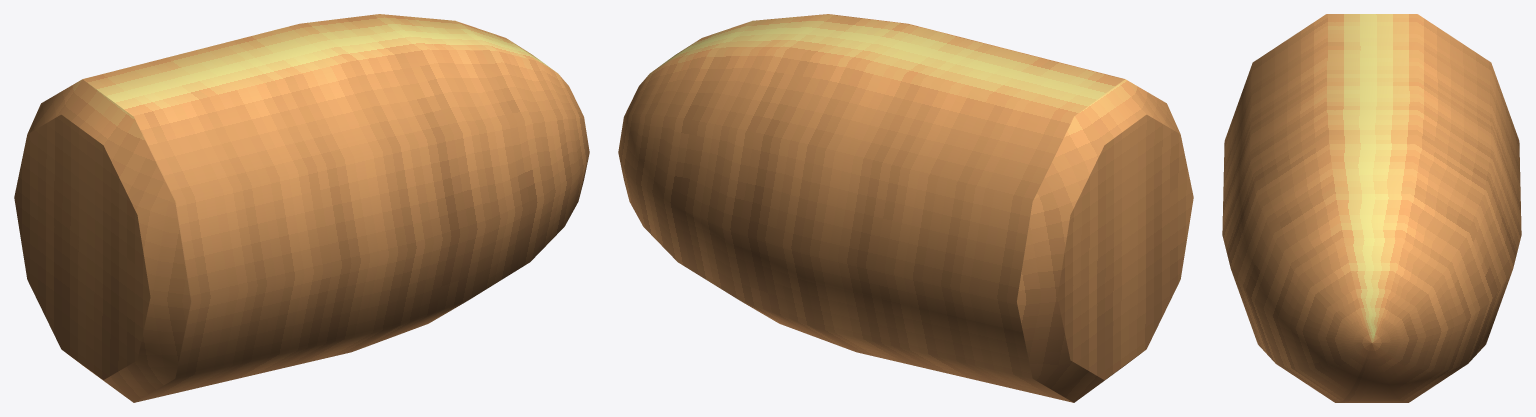
Rendered from ammomaker_BulletHandgunS.fbx.
3 views of the same model, side by side, from view 1: azimuth 30°, elevation 25°; view 2: azimuth 150°, elevation 25°; view 3: azimuth 270°, elevation 25° (orthographic). The views are drawn at different scales.
Parts seen in each view (by area): view 1: ammomaker_BulletHandgunS; view 2: ammomaker_BulletHandgunS; view 3: ammomaker_BulletHandgunS.
Part boxes in pixels (x1,y1,x2,y2): ammomaker_BulletHandgunS: (14, 14, 589, 402); ammomaker_BulletHandgunS: (618, 14, 1193, 402); ammomaker_BulletHandgunS: (1222, 14, 1521, 402).
Bounding box in the file's own units: 1.53 × 0.8612 × 0.9055.
